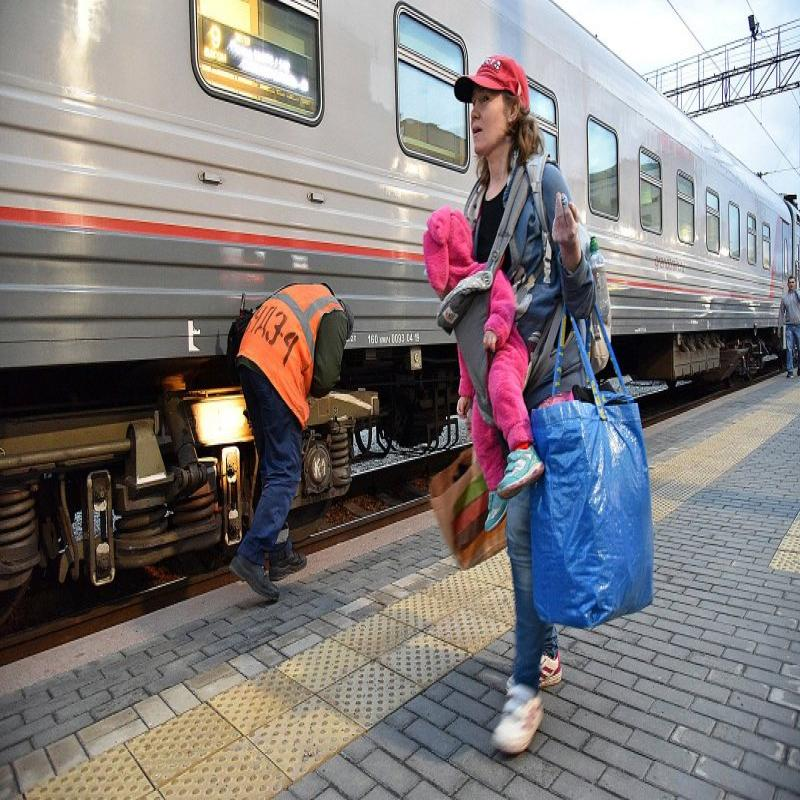train: (1, 3, 228, 597), (623, 63, 772, 385)
